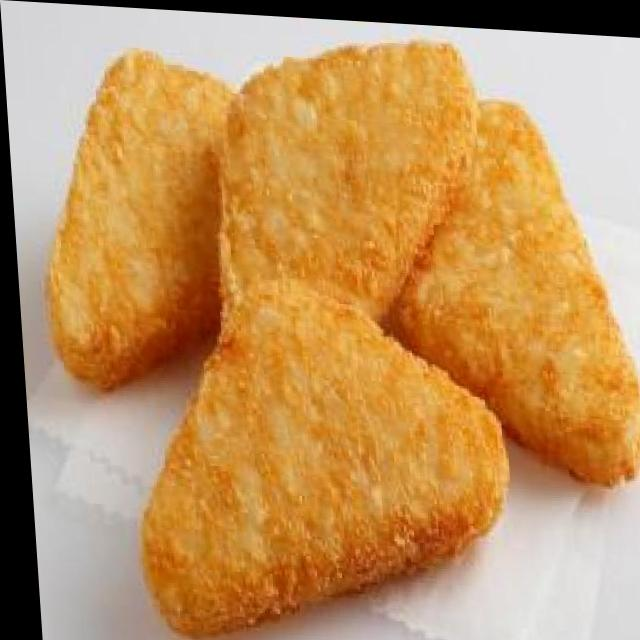triangle_hash_brown: (32, 44, 640, 640)
